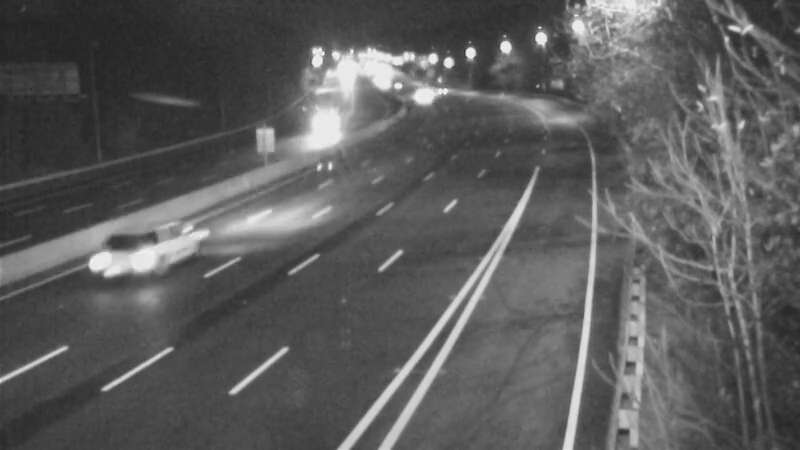vehicle: (80, 215, 160, 295), (417, 66, 467, 116), (398, 73, 448, 123), (292, 103, 342, 153)
